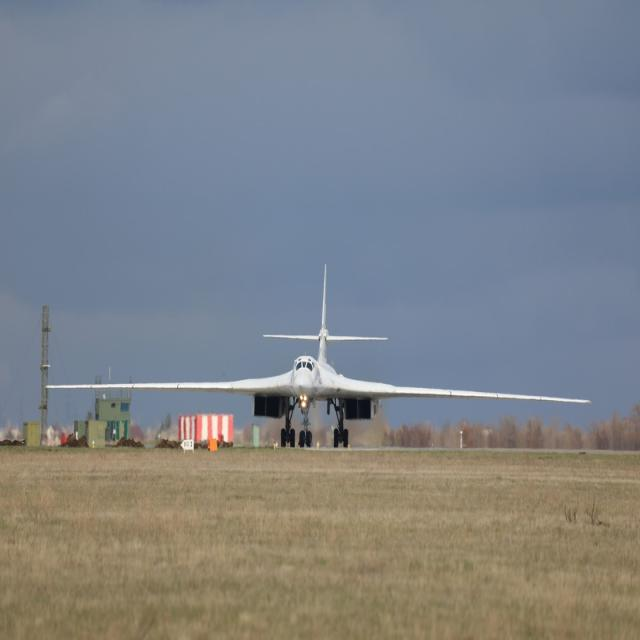MIL_Plane: (44, 292, 592, 418)
